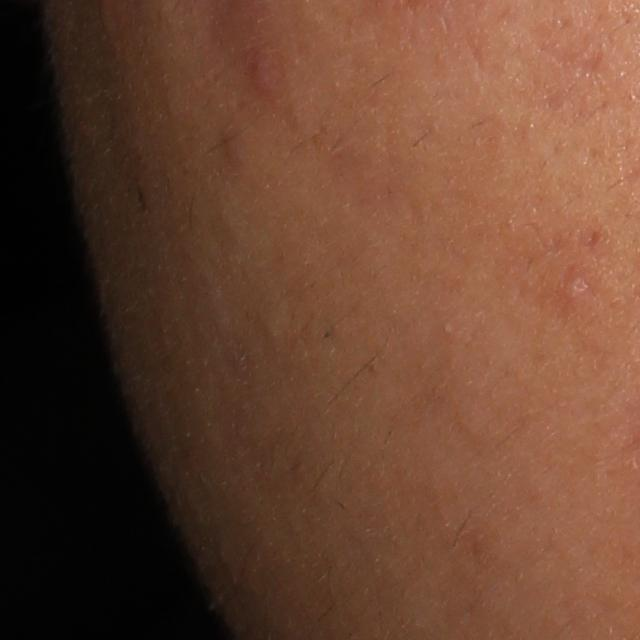papule: (241, 49, 284, 100), (560, 272, 591, 308)
